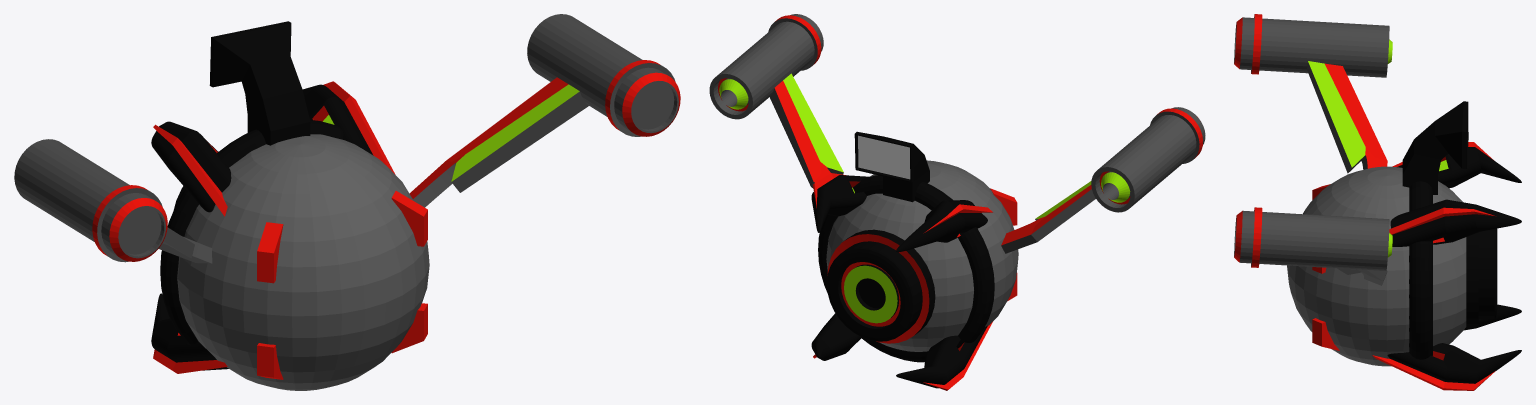
File: lowpoly_drone.fbx
3 views of the same model, side by side, from view 1: azimuth 30°, elevation 25°; view 2: azimuth 150°, elevation 25°; view 3: azimuth 270°, elevation 25° (orthographic). The views are drawn at different scales.
Parts seen in each view (by area): view 1: Drone; view 2: Drone; view 3: Drone.
Part boxes in pixels (bbox=[...]): Drone: bbox=[14, 14, 680, 390]; Drone: bbox=[709, 14, 1205, 390]; Drone: bbox=[1234, 14, 1521, 390].
Bounding box in the file's own units: 518 × 273 × 288.
